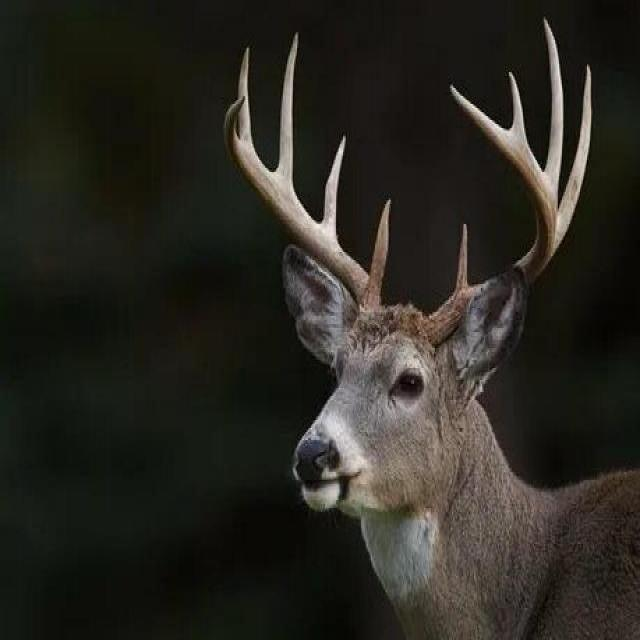deer: (270, 185, 640, 630)
